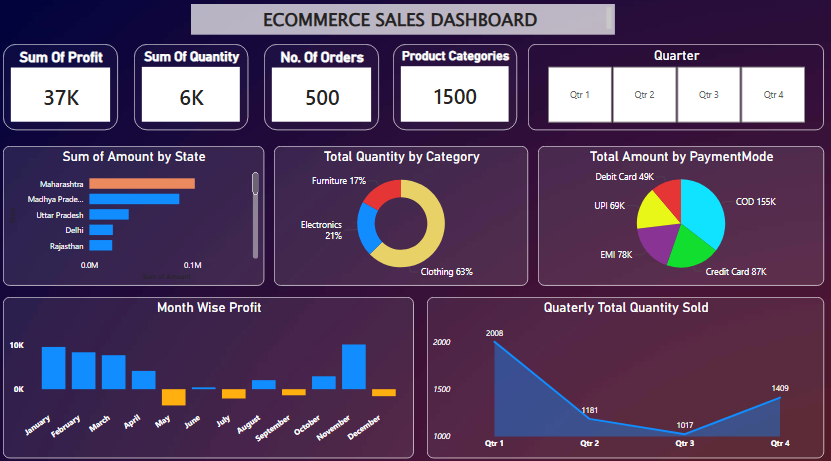

The dashboard page shown, as its layout file describes it:
{"tool":"powerbi","page":{"name":"Dashboard 1","canvas":[1280,720],"ordinal":0},"visuals":[{"type":"cardVisual","title":"Sum Of Profit","fields":{"Data":["Sum(Details.Profit)"]},"box":[10.7,73.5,176.1,131.7],"z":0},{"type":"cardVisual","title":"Sum Of Quantity","fields":{"Data":["Sum(Details.Quantity)"]},"box":[211.3,73.5,174.5,131.7],"z":1000},{"type":"cardVisual","title":"No. Of Orders","fields":{"Data":["CountNonNull(Orders.Order ID)"]},"box":[410.3,73.5,176.1,131.7],"z":2000},{"type":"cardVisual","title":"Product Categories","fields":{"Data":["CountNonNull(Details.Category)"]},"box":[607.8,73.5,189.9,131.7],"z":3000},{"type":"textbox","box":[298.6,12.2,649.2,47.5],"z":4000},{"type":"barChart","fields":{"Y":["Sum(Details.Amount)"],"Category":["Orders.State"]},"box":[10.7,229.7,399.6,214.4],"z":5000},{"type":"donutChart","title":"Total Quantity by Category","fields":{"Y":["Sum(Details.Quantity)"],"Category":["Details.Category"]},"box":[425.6,229.7,388.9,214.4],"z":6000},{"type":"columnChart","title":"Month Wise Profit","fields":{"Y":["Sum(Details.Profit)"],"Category":["Orders.Order Date.Variation.Date Hierarchy.Month"]},"box":[10.7,460.9,629.3,246.5],"z":7000},{"type":"areaChart","title":"Quaterly Total Quantity  Sold","fields":{"Category":["Orders.Order Date.Variation.Date Hierarchy.Quarter"],"Y":["Sum(Details.Quantity)"]},"box":[659.9,460.9,607.8,246.5],"z":8000},{"type":"pieChart","title":"Total Amount by PaymentMode","fields":{"Category":["Details.PaymentMode"],"Y":["Sum(Details.Amount)"]},"box":[829.9,229.7,437.9,214.4],"z":9000},{"type":"slicer","title":"Quarter","fields":{"Values":["Orders.Order Date.Variation.Date Hierarchy.Quarter"]},"box":[814.5,73.5,453.2,131.7],"z":10000}]}

Visuals, with their boxes in screenshot pixels (x1, y1, x2, y2), scaled from the page's 1280x720 canvas onto the 831x461 screenshot:
"Sum Of Profit" cardVisual: Rect(7, 47, 121, 131)
"Sum Of Quantity" cardVisual: Rect(137, 47, 250, 131)
"No. Of Orders" cardVisual: Rect(266, 47, 381, 131)
"Product Categories" cardVisual: Rect(395, 47, 518, 131)
textbox: Rect(194, 8, 615, 38)
barChart - Sum(Details.Amount) x Orders.State: Rect(7, 147, 266, 284)
"Total Quantity by Category" donutChart: Rect(276, 147, 529, 284)
"Month Wise Profit" columnChart: Rect(7, 295, 416, 453)
"Quaterly Total Quantity  Sold" areaChart: Rect(428, 295, 823, 453)
"Total Amount by PaymentMode" pieChart: Rect(539, 147, 823, 284)
"Quarter" slicer: Rect(529, 47, 823, 131)
